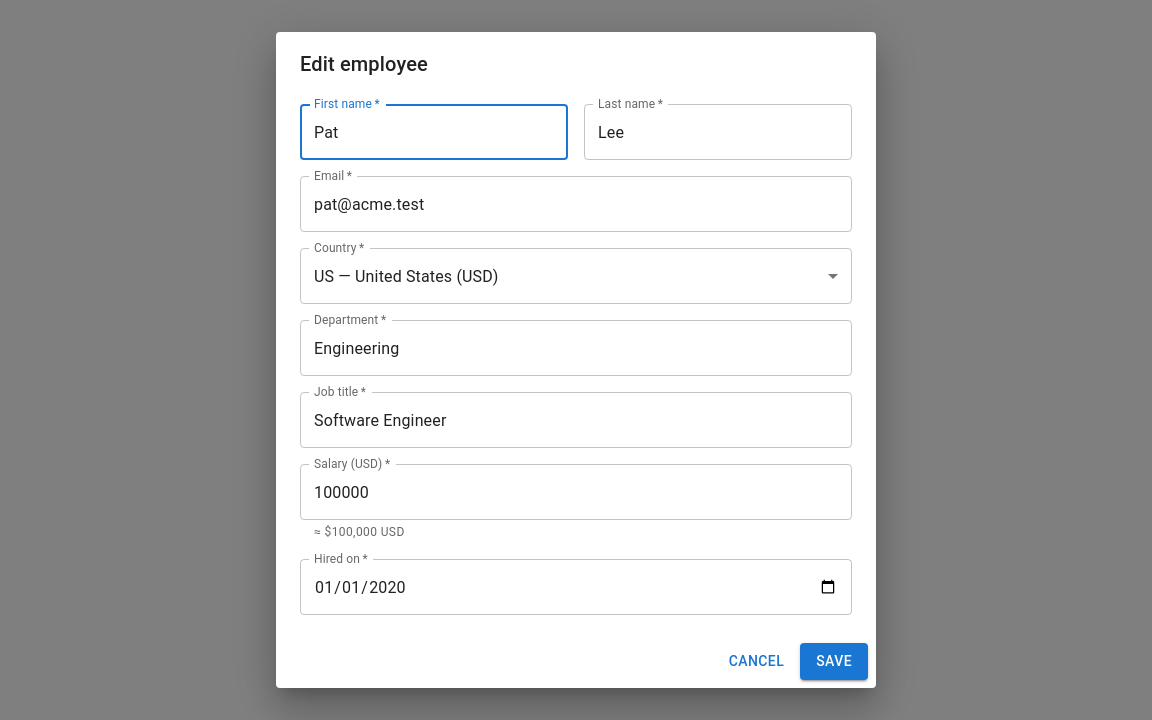
Test: EmployeeFormDialog › shows server validation errors under fields
Click the button "Save".
click(834, 661)  # box [800,643,868,680]
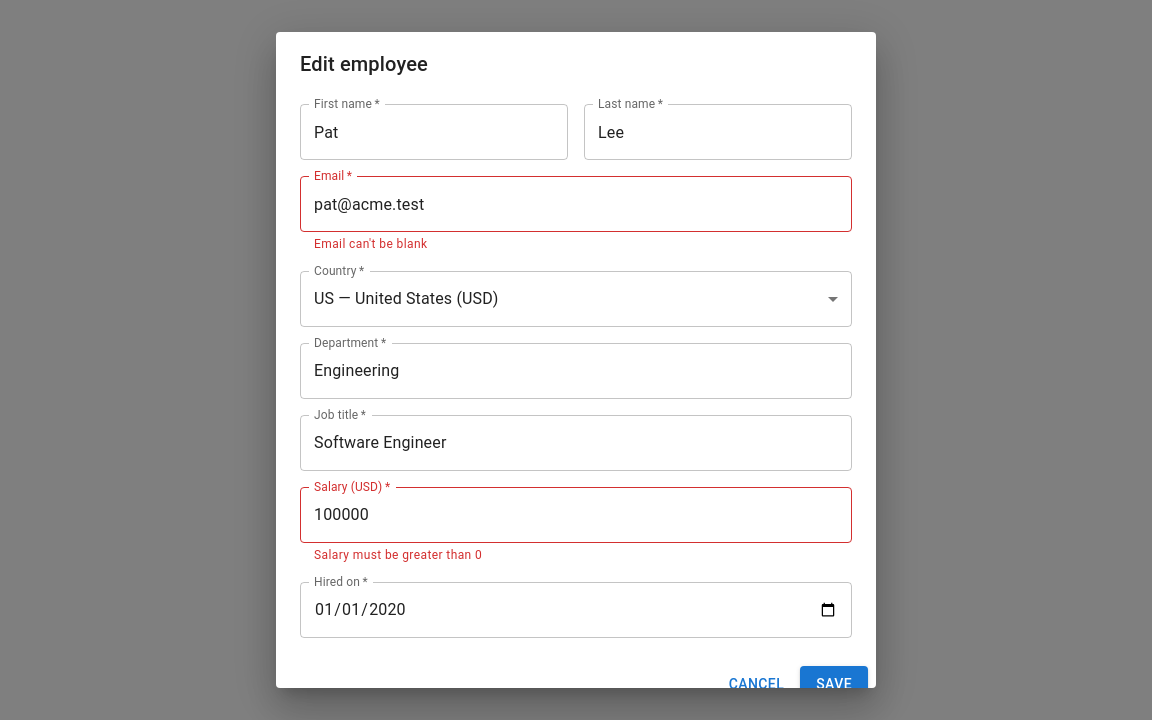
Expected: the text "Email can't be blank" is shown, [314,237,428,251]
Expected: the text "Salary must be greater than 0" is shown, [314,548,482,562]
